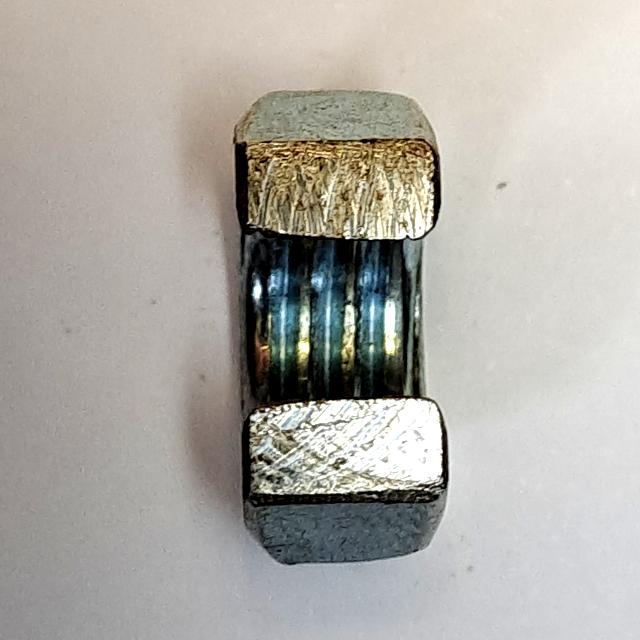Side-Fracture: (207, 79, 467, 584)
